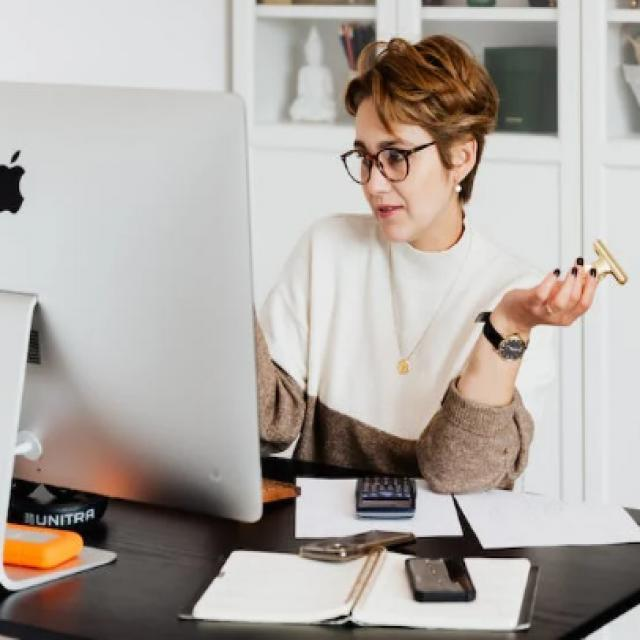Watch: (472, 306, 535, 366)
